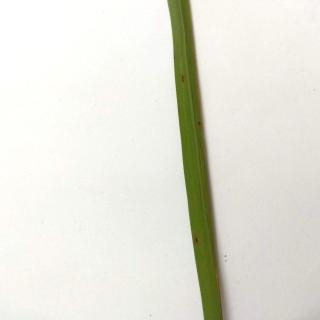bercak-Cokelat: (188, 232, 204, 252)
